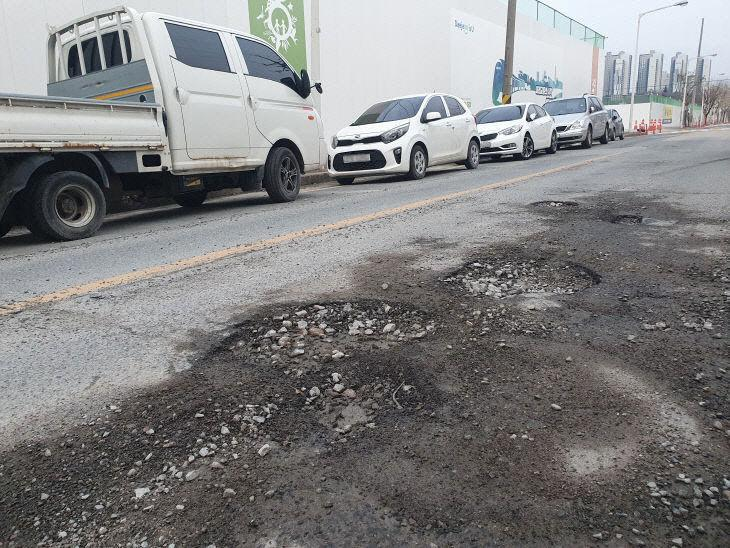pothole: (211, 274, 427, 346), (279, 350, 427, 443), (448, 228, 607, 309), (604, 209, 668, 229)
